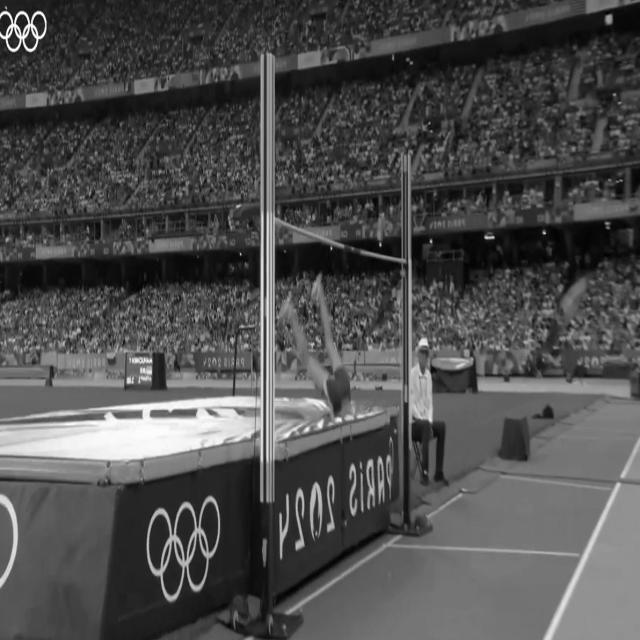land: (277, 271, 352, 428)
